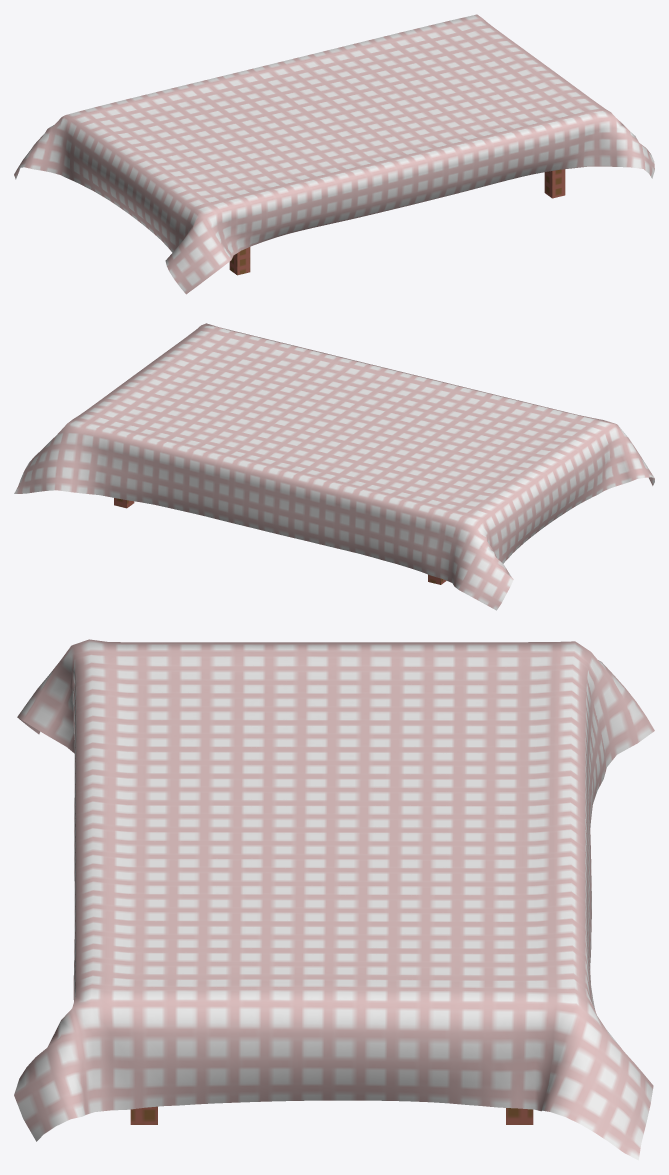
Rendered from Tsukue.fbx.
3 views of the same model, one above another, from view 1: azimuth 30°, elevation 25°; view 2: azimuth 150°, elevation 25°; view 3: azimuth 270°, elevation 25° (orthographic). The views are drawn at different scales.
Parts seen in each view (by area): view 1: Tsukue; view 2: Tsukue; view 3: Tsukue.
Boxes of the visible parts, box(x1,y1,x2,y2) form: Tsukue: box(14, 14, 654, 294); Tsukue: box(14, 323, 654, 610); Tsukue: box(14, 639, 654, 1160).
Bounding box in the file's own units: 21.44 × 3.56 × 13.43.
